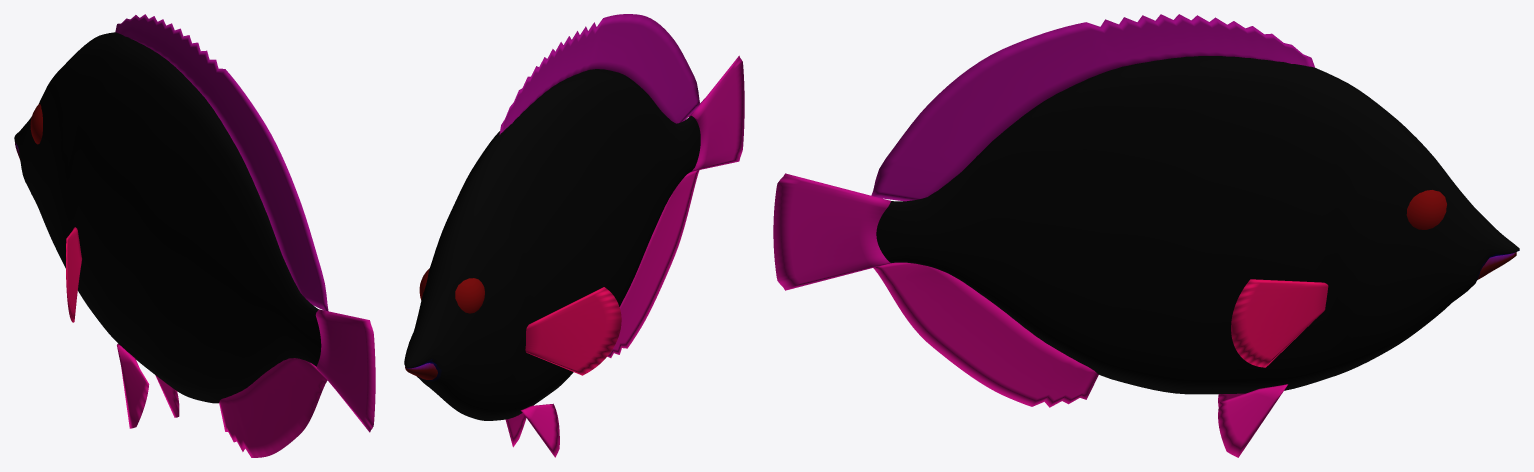
File: butterflyfish_raccoon.glb
3 views of the same model, side by side, from view 1: azimuth 30°, elevation 25°; view 2: azimuth 150°, elevation 25°; view 3: azimuth 270°, elevation 25° (orthographic). The views are drawn at different scales.
Parts seen in each view (by area): view 1: butterflyfish_raccoon; view 2: butterflyfish_raccoon; view 3: butterflyfish_raccoon.
Part boxes in pixels (<box>): butterflyfish_raccoon: <box>14,14,375,457</box>; butterflyfish_raccoon: <box>404,14,744,457</box>; butterflyfish_raccoon: <box>773,14,1519,457</box>.
Size of the model in its own units: 0.0518 by 0.1151 by 0.18.
